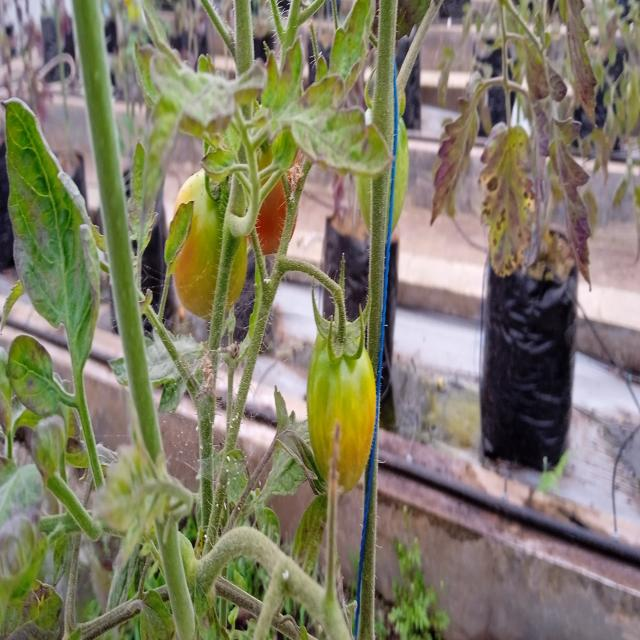fine: (303, 290, 378, 500), (166, 165, 255, 329)
overripe: (244, 145, 309, 257)
